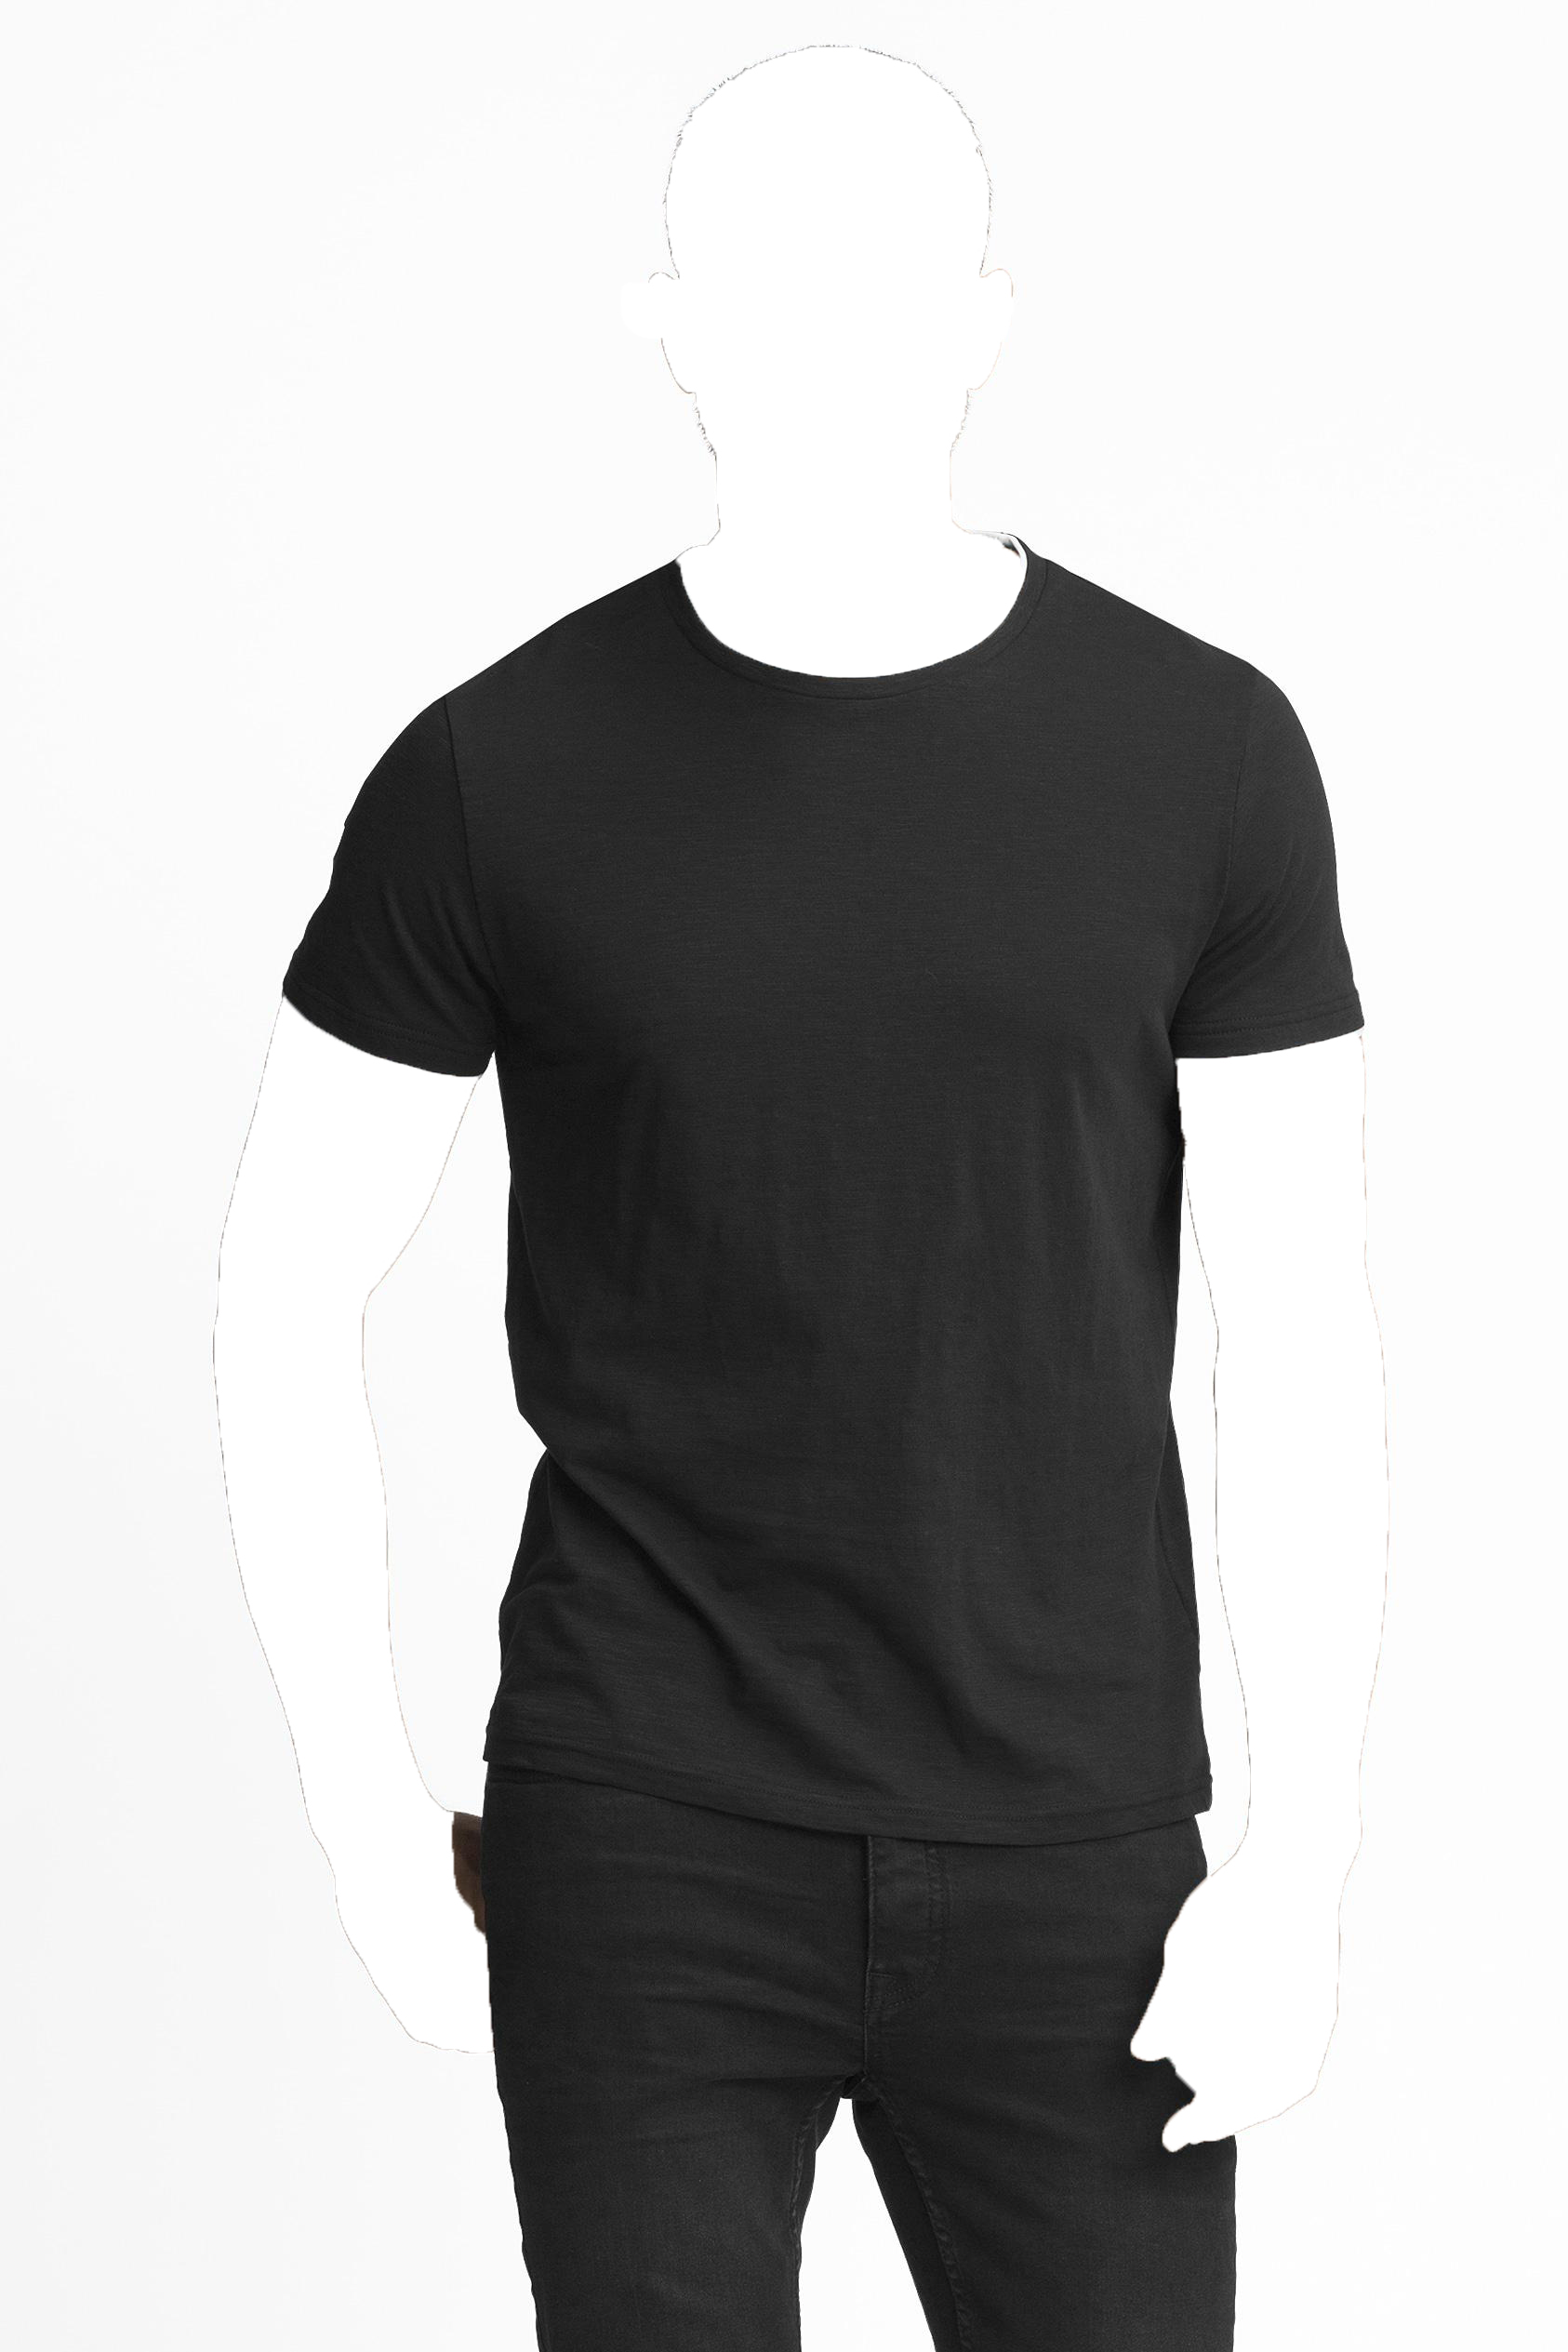teeshirt: (268, 535, 1389, 1862)
